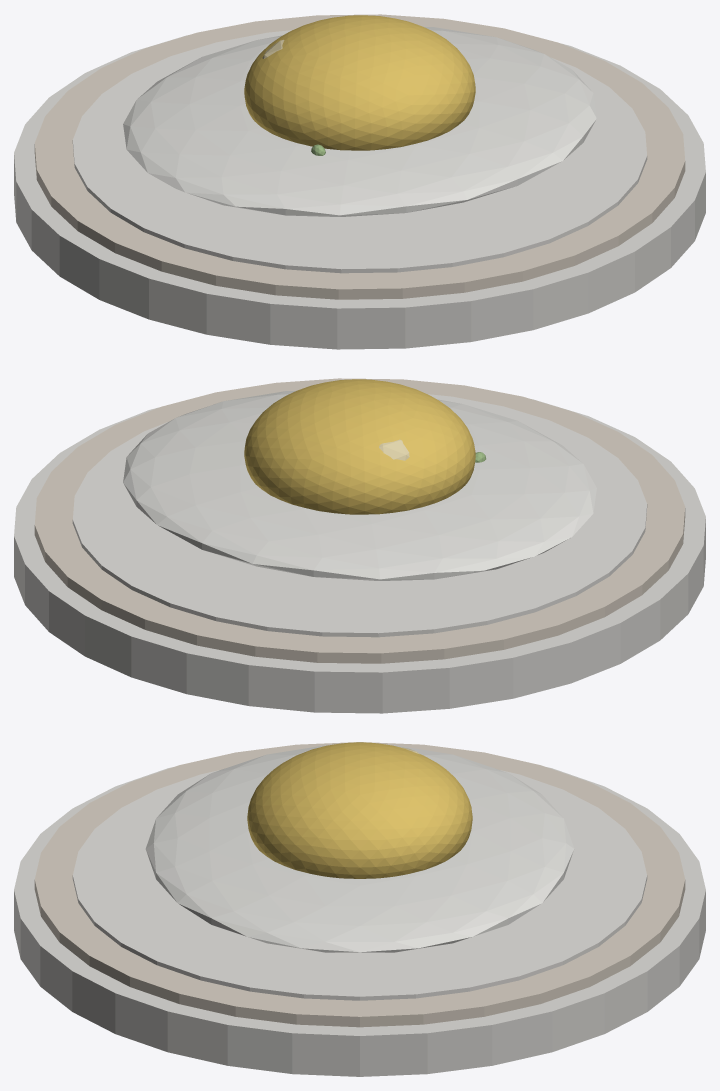
The model's file is egg.glb.
3 views of the same model, one above another, from view 1: azimuth 30°, elevation 25°; view 2: azimuth 150°, elevation 25°; view 3: azimuth 270°, elevation 25° (orthographic).
Visible parts, largest first — view 1: obj_0003, obj_0002, obj_0000, obj_0001, obj_0004; view 2: obj_0003, obj_0002, obj_0000, obj_0001, obj_0004; view 3: obj_0003, obj_0002, obj_0000, obj_0001, obj_0004.
Boxes of the visible parts, x1,y1,x2,y2 form: obj_0003: (123,27,596,216); obj_0002: (72,30,647,273); obj_0000: (14,35,705,349); obj_0001: (34,14,685,299); obj_0004: (244,15,475,150); obj_0003: (123,391,596,580); obj_0002: (72,394,647,637); obj_0000: (14,399,705,713); obj_0001: (34,378,685,663); obj_0004: (244,379,475,514); obj_0003: (145,745,574,952); obj_0002: (72,770,647,1000); obj_0000: (14,767,705,1076); obj_0001: (34,742,685,1027); obj_0004: (247,742,472,878).
Size of the model in its own units: 1.84 by 0.5 by 1.84.
